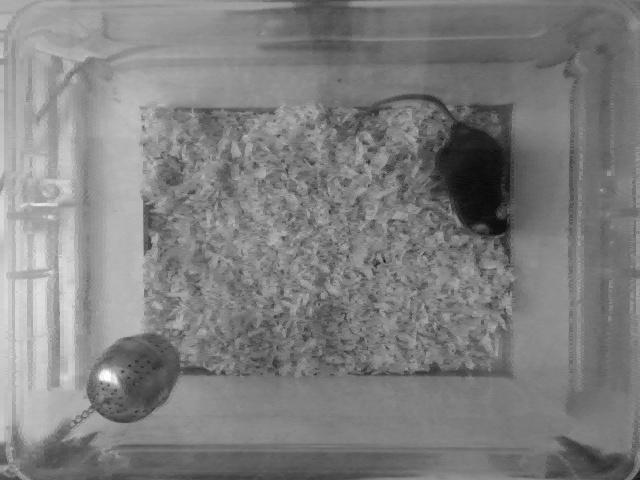mice: (353, 88, 513, 238)
